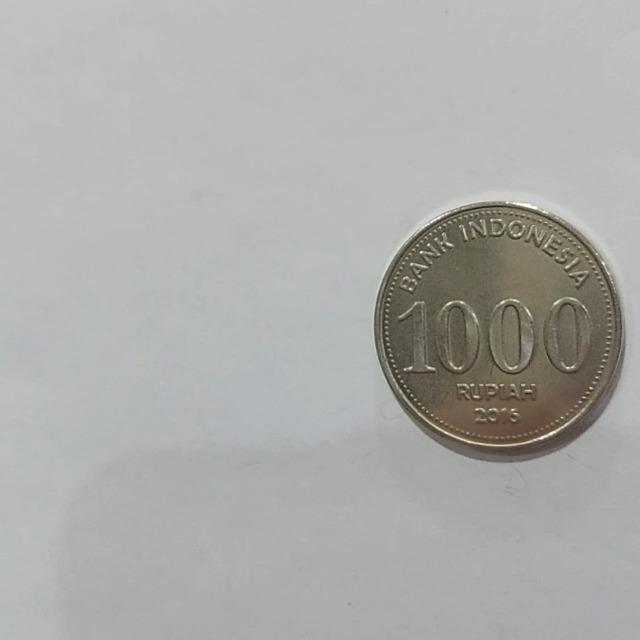Rp100: (372, 197, 626, 463)
